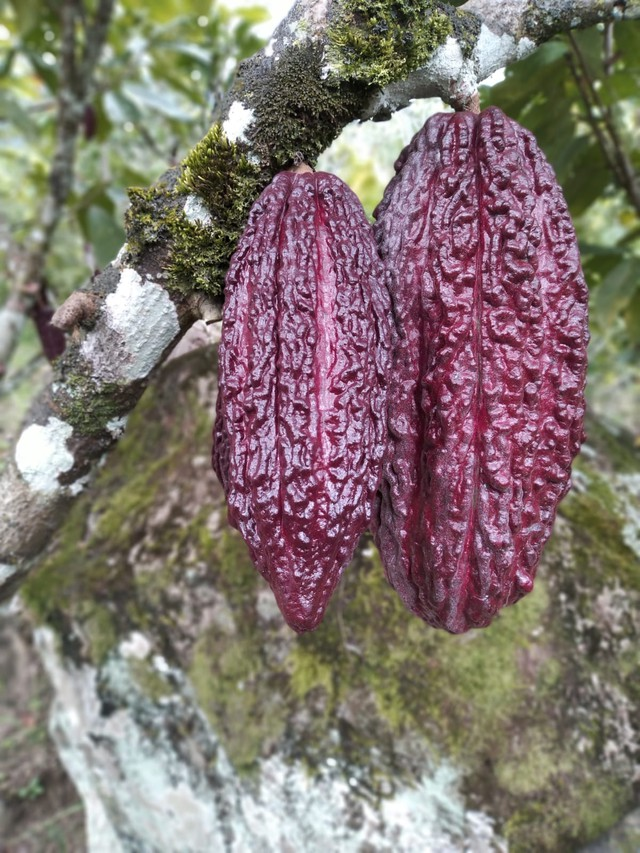Health: (325, 65, 609, 655), (196, 136, 399, 648)
